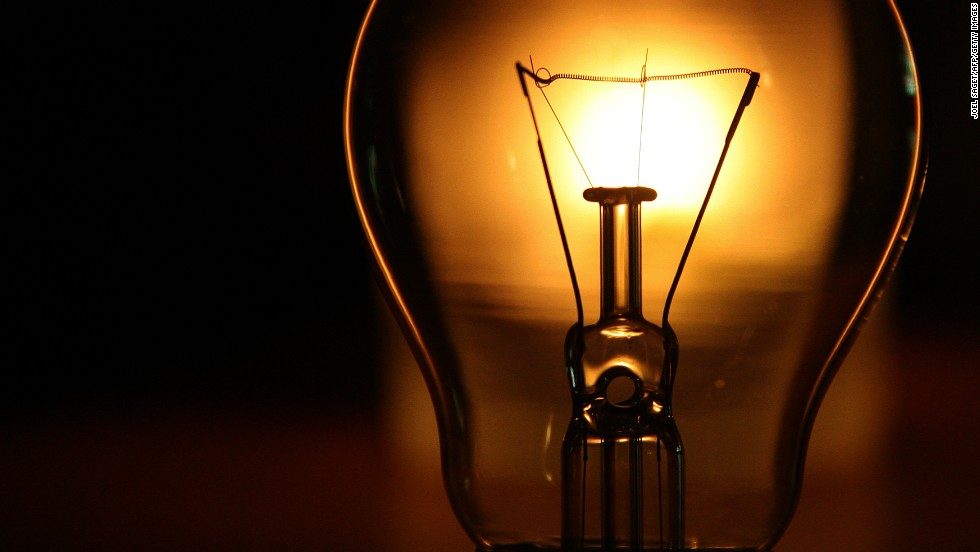Nonrec_Glass: (310, 2, 937, 532)
